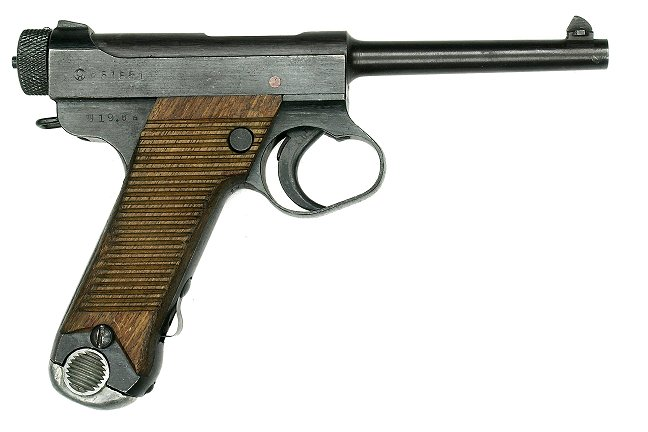gun: (6, 12, 627, 417)
